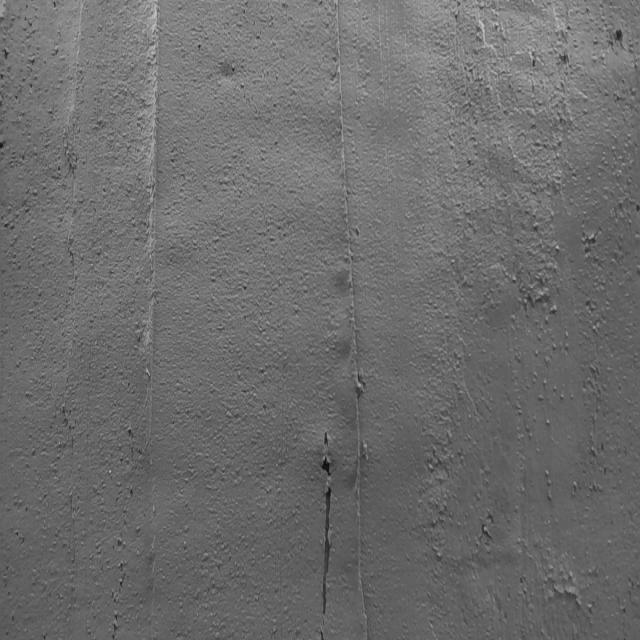trowels marks: (330, 1, 378, 639), (142, 0, 182, 640), (60, 7, 96, 640)
